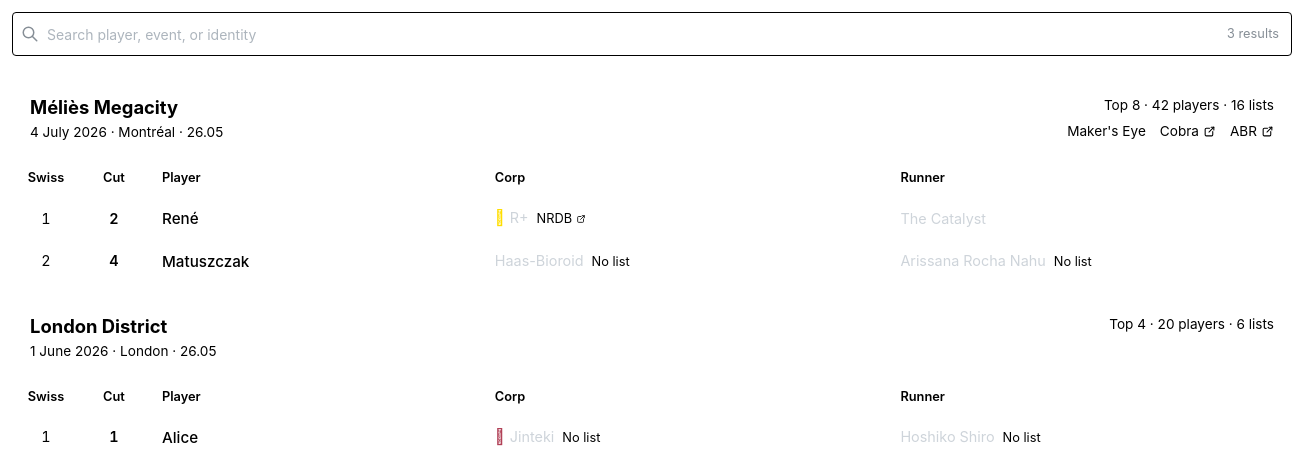
Test: CatalogClient › shows a directed no-results state
Type "not a real event" into the field named "Search tournament entrants". click: [652, 34]
box: [12,12,1292,56]
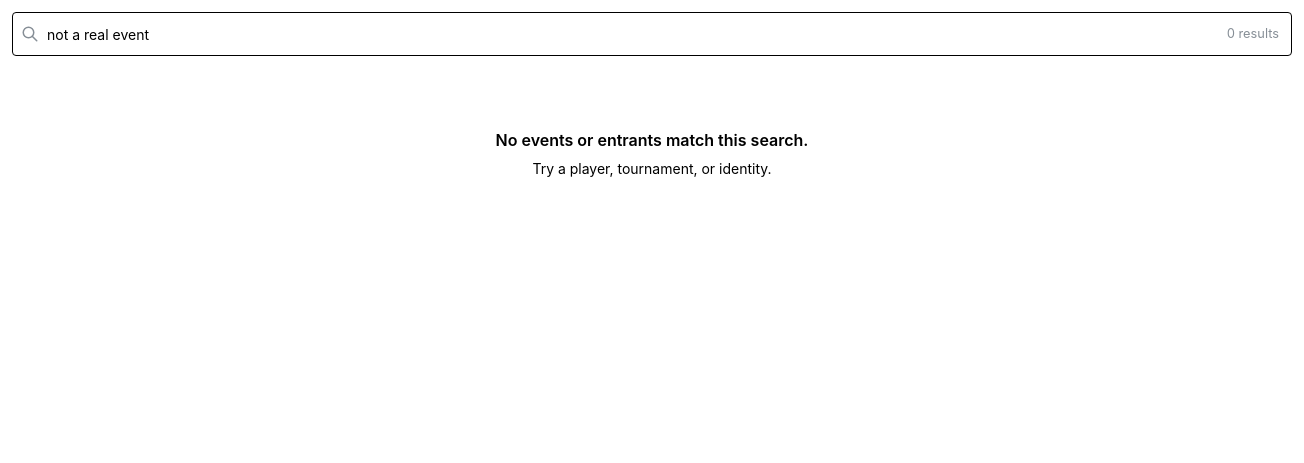
Check: the text "No events or entrants match this search." is shown, box [496,130,808,150]
